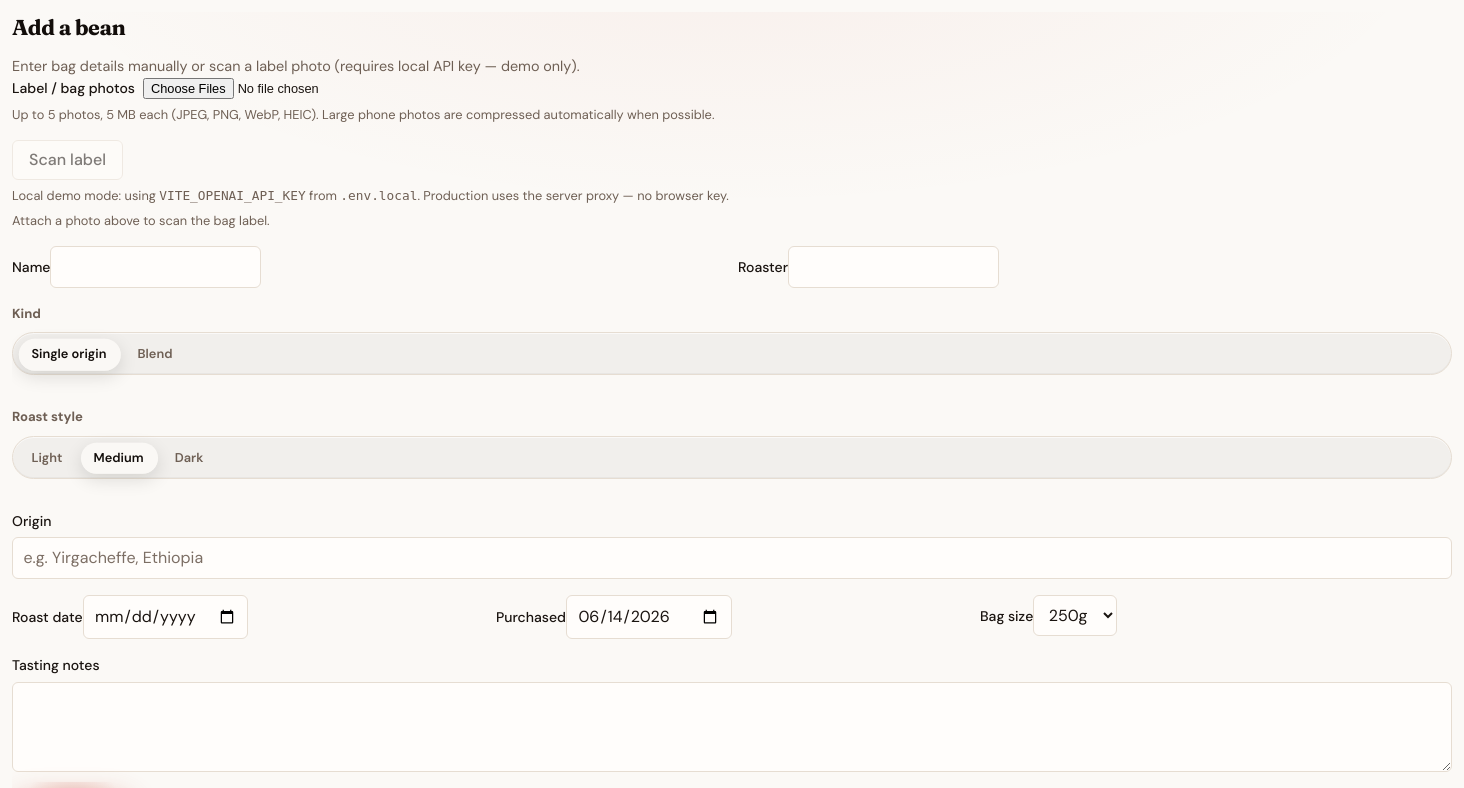
Test: AddBeanForm › shows blend name label and placeholder when kind is blend
Expected: the field with placeholder "e.g. Yirgacheffe, Ethiopia" is shown, [12, 537, 1452, 579]
Click the button "Blend". click: (155,354)
box: [124, 338, 186, 369]
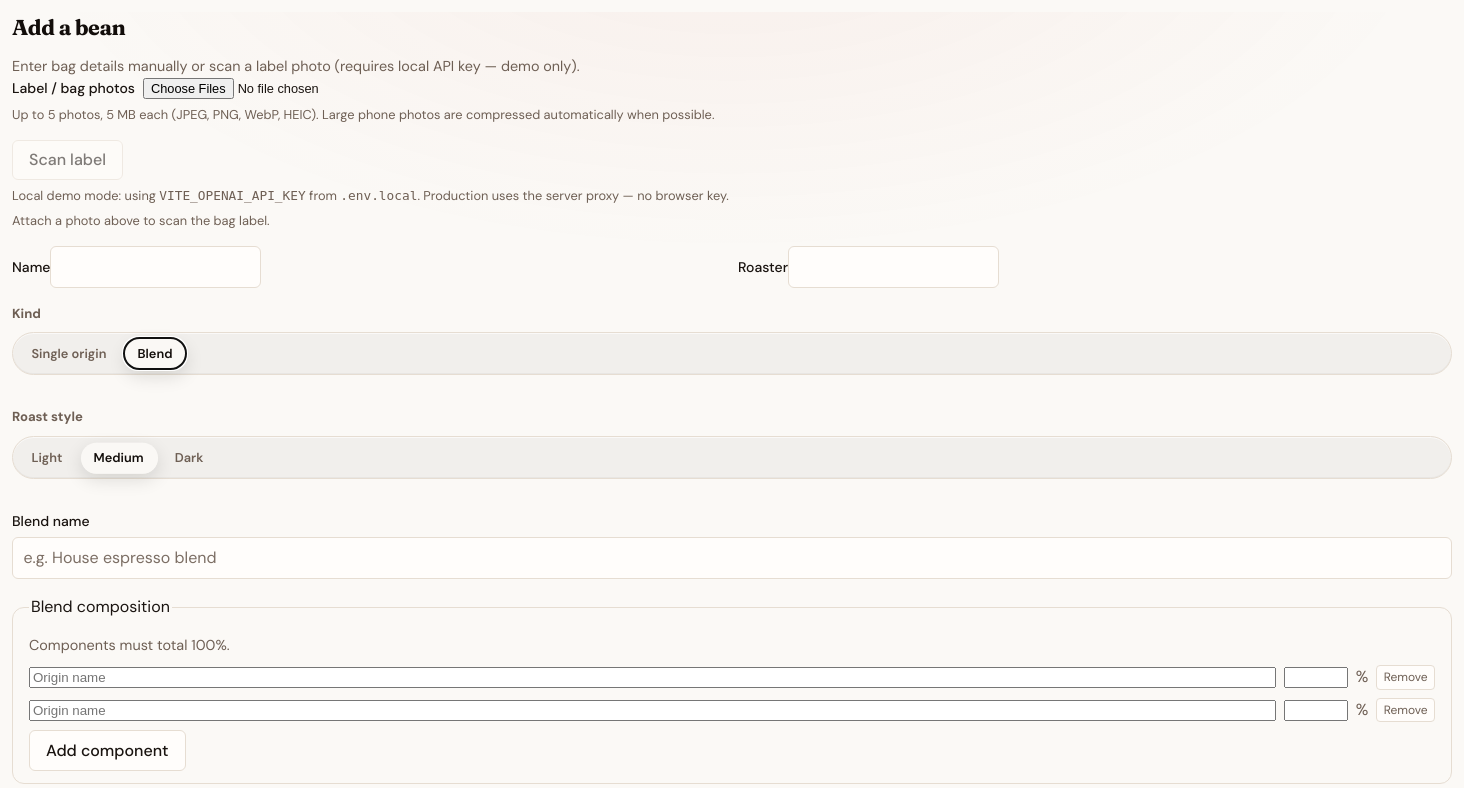
Result: the field with placeholder "e.g. House espresso blend" is shown at [12, 537, 1452, 579]
